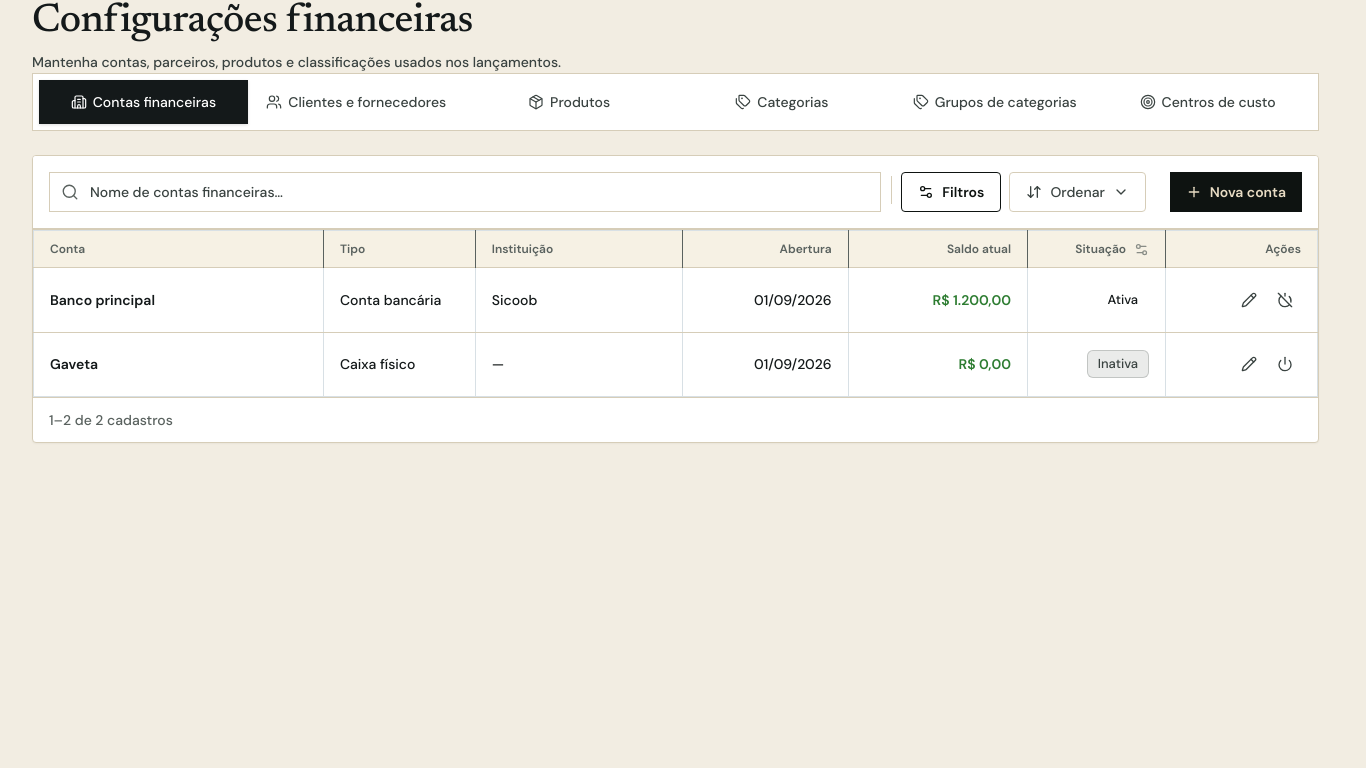
ConfiguracoesFinanceiras — contas › clicar na linha abre a edição e o ícone de editar não abre duas vezes
Click the button named "Editar Banco principal". click: (1249, 300)
box: [1233, 282, 1265, 318]
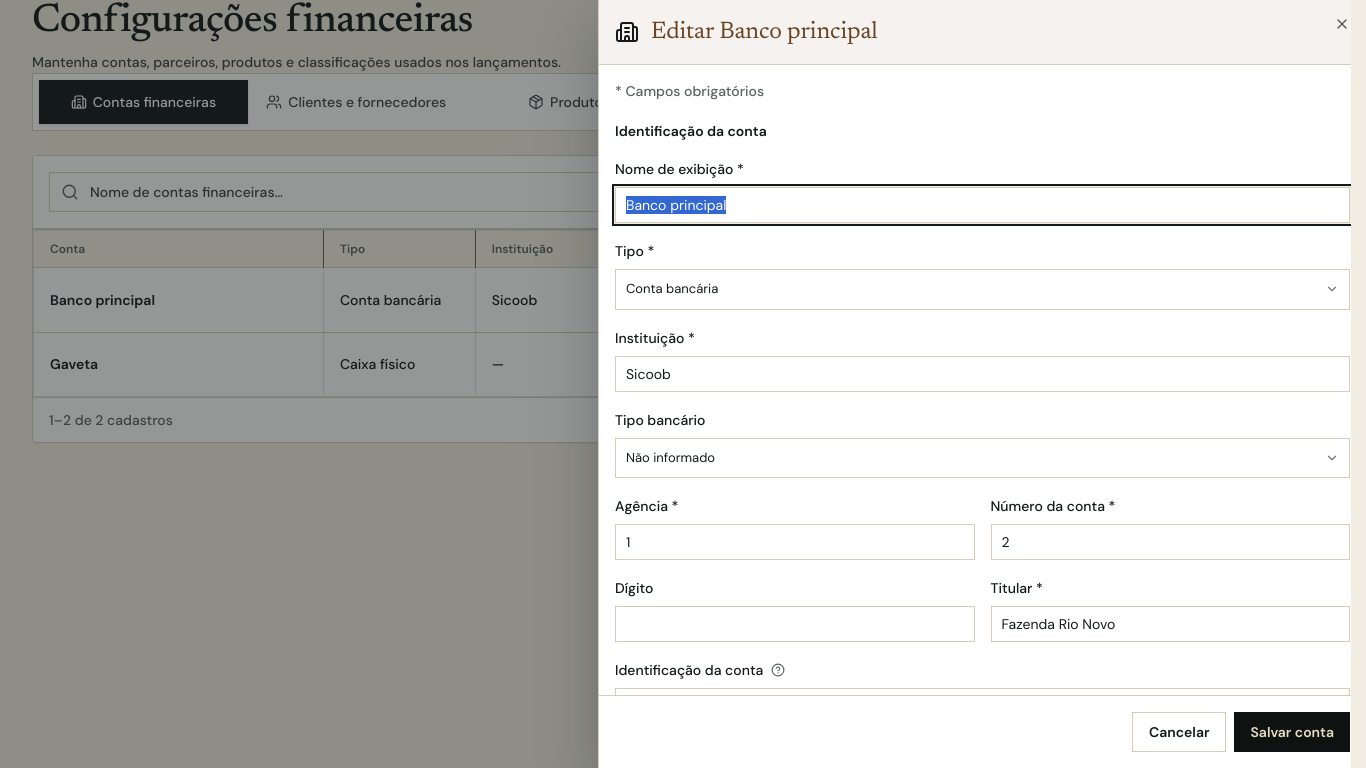
Expected: the number of dialogs is 1, [598, 0, 1365, 767]
Press Escape in the field labelled "Nome de exibição *", box [615, 187, 1350, 223]
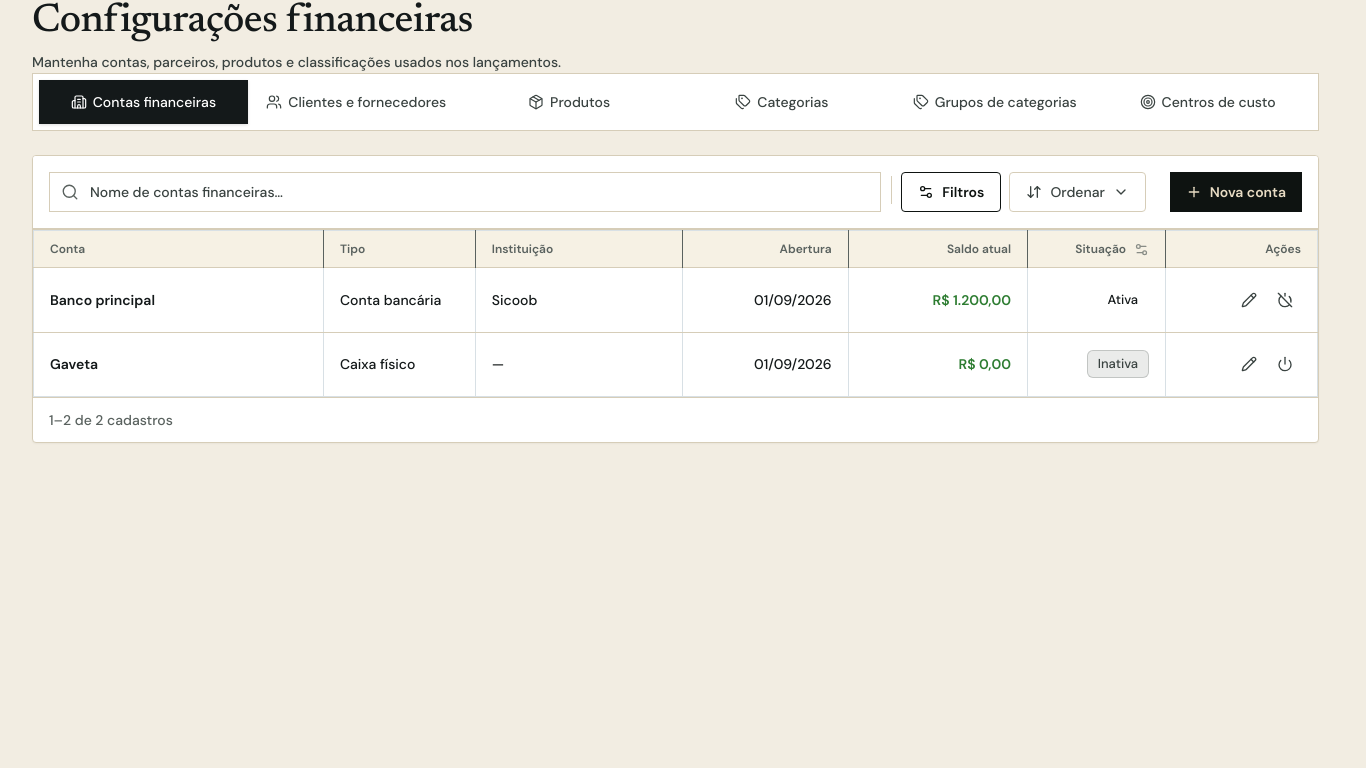
Expected: the dialog is gone
Click the text "Gaveta". click: (676, 364)
box: [34, 332, 1318, 396]
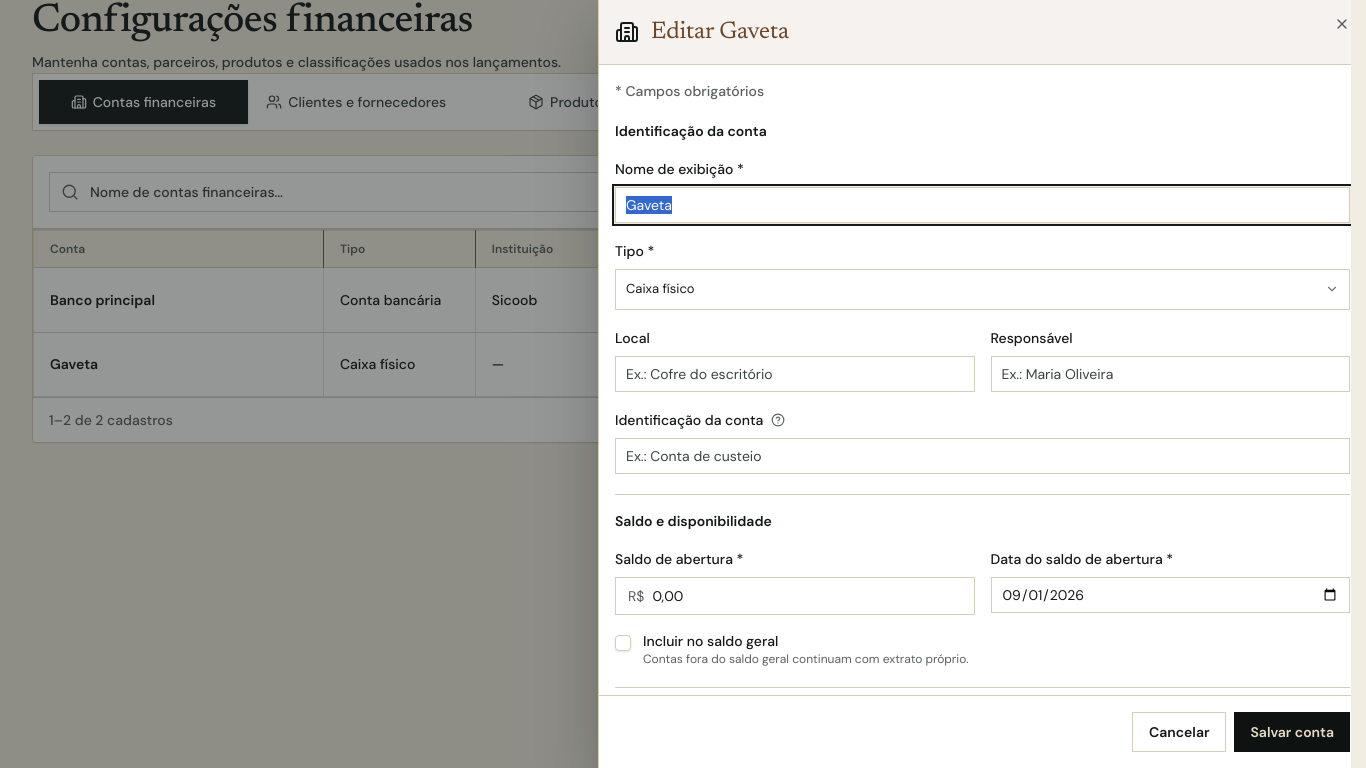
Expected: the heading "Editar Gaveta" is shown, [651, 16, 789, 48]
Expected: the field labelled "Saldo de abertura" is enabled, [644, 578, 974, 614]
